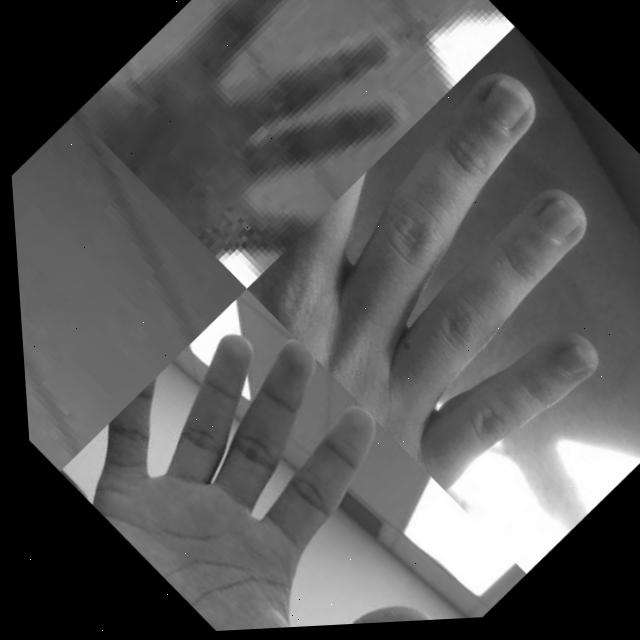hand: (230, 47, 640, 518), (44, 280, 508, 639), (67, 0, 470, 296)
